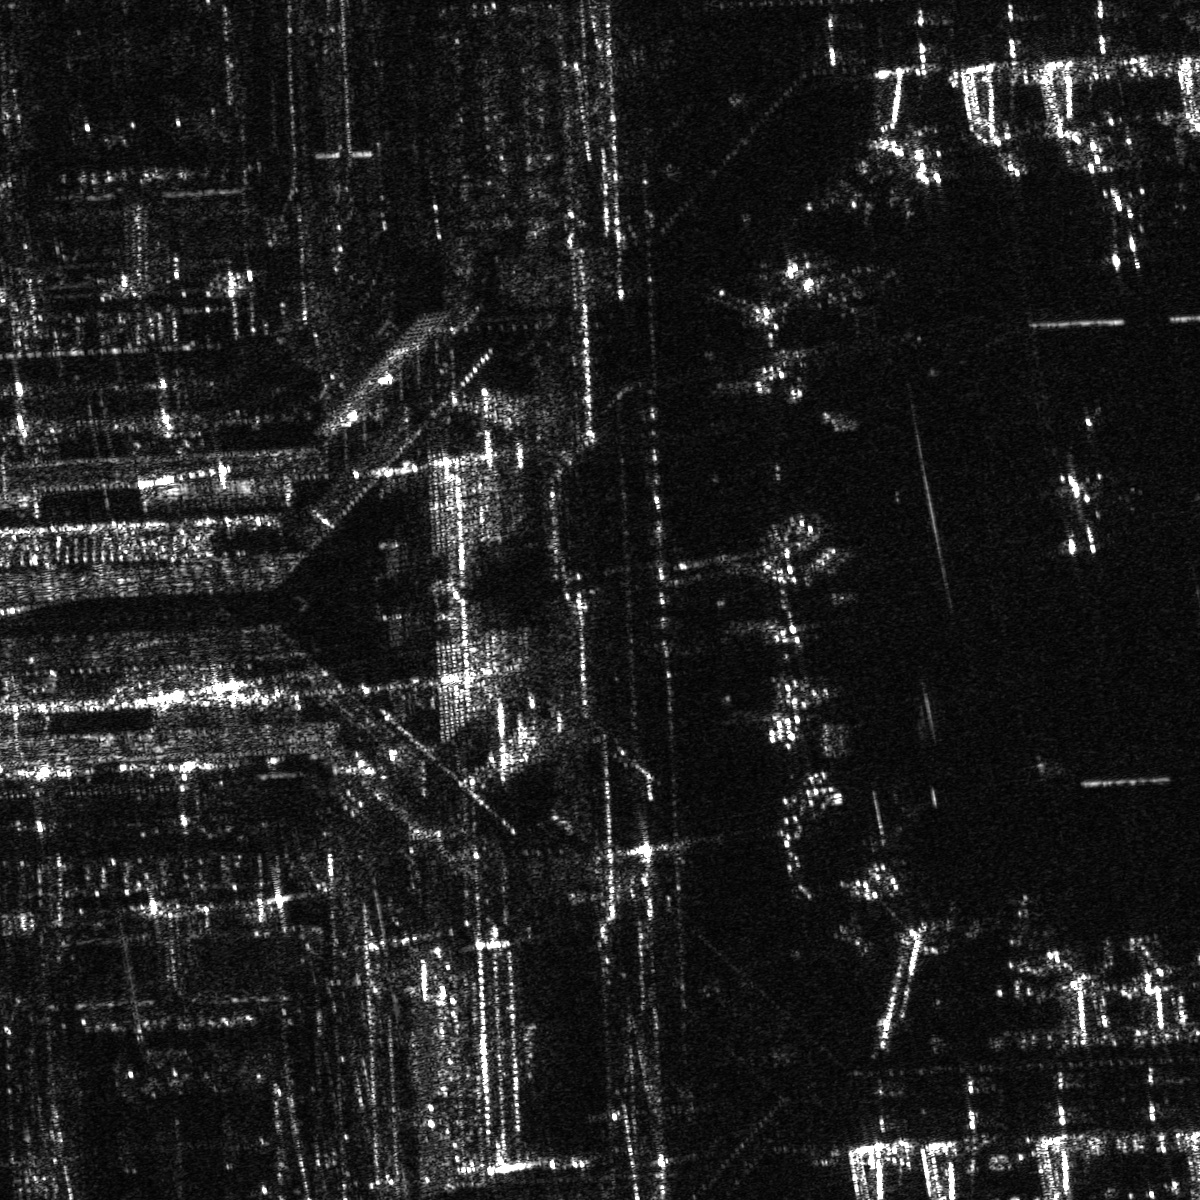Boeing787: (1078, 175, 1159, 273)
other: (1041, 471, 1114, 558)
